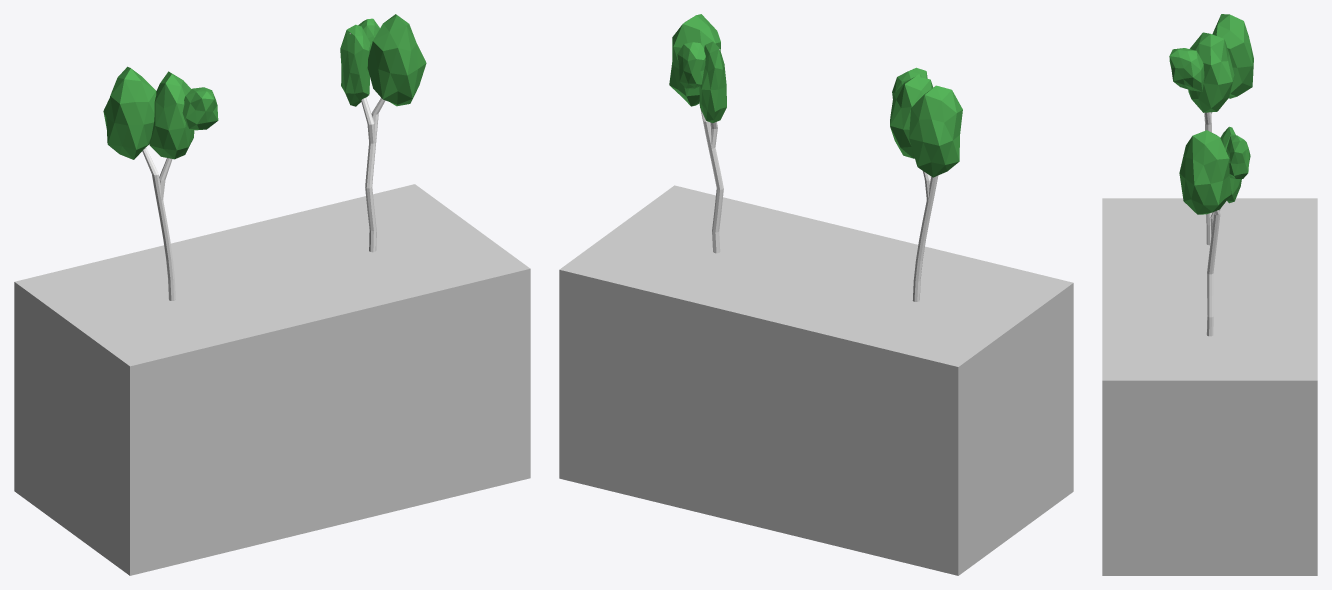
Rendered from BirchTrees.fbx.
The picture shows the model from 3 angles, left to right: view 1: azimuth 30°, elevation 25°; view 2: azimuth 150°, elevation 25°; view 3: azimuth 270°, elevation 25°; orthographic projection. The views are drawn at different scales.
Visible parts, largest first — view 1: Cube.001, Cube.000, BirchTree0, BirchTree1; view 2: Cube.001, Cube.000, BirchTree0, BirchTree1; view 3: Cube.000, Cube.001, BirchTree0, BirchTree1.
Boxes of the visible parts, x1,y1,x2,y2 form: Cube.001: [14, 233, 330, 575]; Cube.000: [215, 184, 530, 526]; BirchTree0: [103, 66, 218, 300]; BirchTree1: [340, 14, 426, 252]; Cube.001: [759, 234, 1073, 575]; Cube.000: [559, 185, 873, 527]; BirchTree0: [890, 67, 962, 301]; BirchTree1: [669, 14, 726, 253]; Cube.000: [1102, 289, 1317, 575]; Cube.001: [1102, 198, 1317, 289]; BirchTree0: [1169, 14, 1253, 245]; BirchTree1: [1179, 126, 1250, 336].
Bounding box in the file's own units: 400 × 421 × 200.
Materials: 1 (1 with a texture image).
